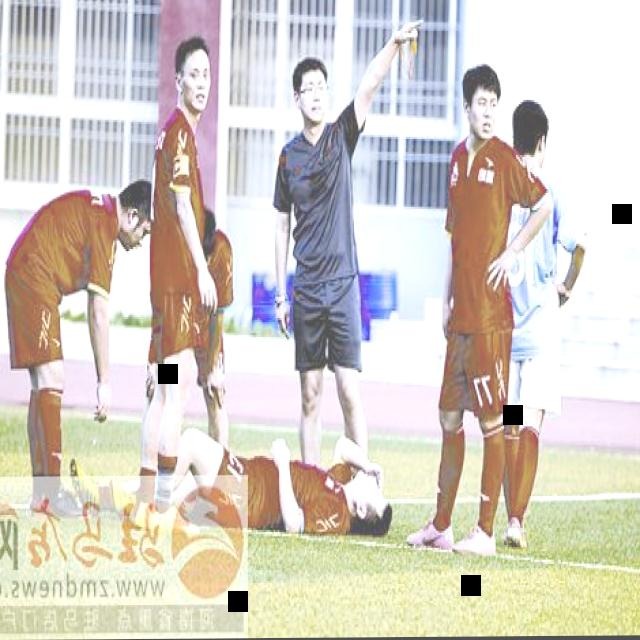Fall-Detected: (94, 411, 391, 548)
